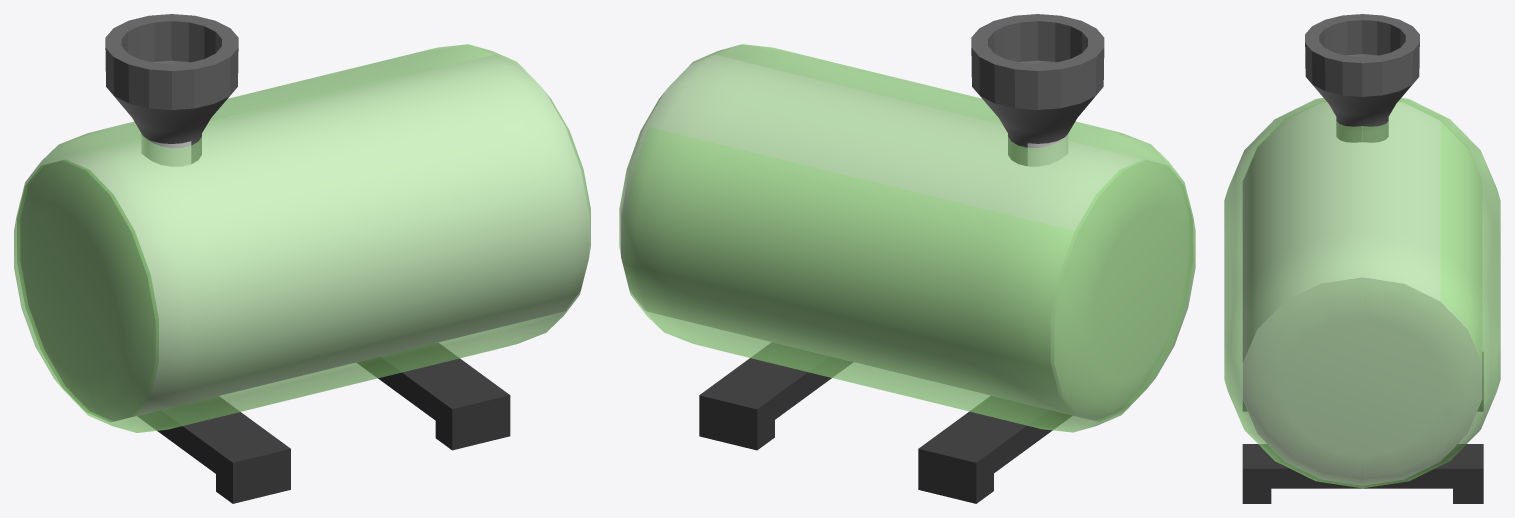
Rendered from RellenoMotor.fbx.
3 renders of one model, left to right at view 1: azimuth 30°, elevation 25°; view 2: azimuth 150°, elevation 25°; view 3: azimuth 270°, elevation 25°, orthographic. The views are drawn at different scales.
Parts seen in each view (by area): view 1: Cylinder001, Cylinder002, Cylinder003; view 2: Cylinder001, Cylinder002, Cylinder003; view 3: Cylinder001, Cylinder002.
Boxes of the visible parts, left/top/right/bottom form: Cylinder001: left=14, top=14, right=590, bottom=503; Cylinder002: left=20, top=54, right=589, bottom=421; Cylinder003: left=141, top=133, right=191, bottom=166; Cylinder001: left=619, top=14, right=1195, bottom=503; Cylinder002: left=621, top=54, right=1188, bottom=420; Cylinder003: left=1027, top=134, right=1068, bottom=166; Cylinder001: left=1224, top=14, right=1500, bottom=503; Cylinder002: left=1242, top=102, right=1482, bottom=485.
Size of the model in its own units: 18.29 by 15.4 by 10.95.
